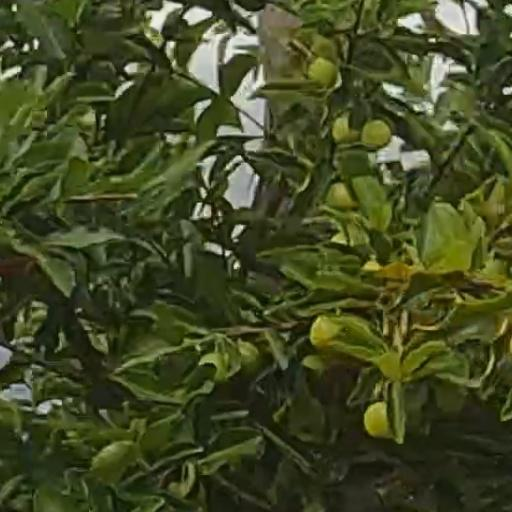acerola: (308, 57, 337, 86), (308, 315, 337, 344), (365, 402, 387, 435), (364, 125, 391, 148)
